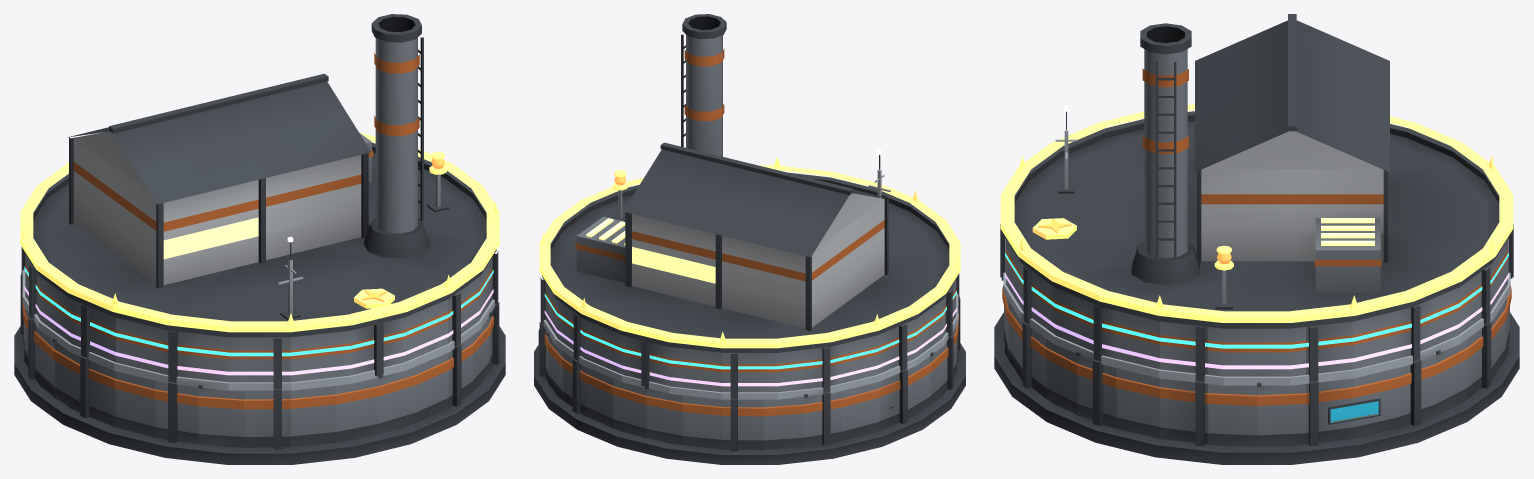
The model's file is refinery.glb.
3 views of the same model, side by side, from view 1: azimuth 30°, elevation 25°; view 2: azimuth 150°, elevation 25°; view 3: azimuth 270°, elevation 25° (orthographic). The views are drawn at different scales.
Parts seen in each view (by area): view 1: Roof, Base, Wall_21, Wall_20, Wall_22, Wall_19, Wall_23, Wall_18, Wall_24, Wall_17, Upper_21, Upper_23 (+34 smaller); view 2: Roof, Base, Wall_10, Wall_11, Wall_09, Wall_12, Wall_08, Wall_13, Wall_07, Wall_14, Upper_10, Upper_08 (+27 smaller); view 3: Roof, Base, Wall_00, Wall_31, Wall_30, Wall_29, Wall_01, Wall_28, Wall_03, Wall_02, Upper_01, Upper_30 (+35 smaller).
Boxes of the visible parts, x1=… form: Roof: x1=23, y1=14, x2=496, y2=337; Base: x1=14, y1=326, x2=505, y2=464; Wall_21: x1=244, y1=389, x2=290, y2=449; Wall_20: x1=198, y1=384, x2=244, y2=447; Wall_22: x1=291, y1=385, x2=336, y2=447; Wall_19: x1=154, y1=381, x2=198, y2=444; Wall_23: x1=336, y1=377, x2=378, y2=442; Wall_18: x1=115, y1=371, x2=155, y2=437; Wall_24: x1=378, y1=366, x2=416, y2=434; Wall_17: x1=80, y1=356, x2=115, y2=427; Upper_21: x1=244, y1=337, x2=290, y2=388; Upper_23: x1=335, y1=324, x2=380, y2=377; Roof: x1=542, y1=14, x2=957, y2=352; Base: x1=534, y1=343, x2=965, y2=464; Wall_10: x1=722, y1=398, x2=763, y2=451; Wall_11: x1=763, y1=397, x2=804, y2=449; Wall_09: x1=682, y1=395, x2=722, y2=449; Wall_12: x1=804, y1=391, x2=842, y2=446; Wall_08: x1=645, y1=386, x2=682, y2=445; Wall_13: x1=842, y1=382, x2=877, y2=440; Wall_07: x1=612, y1=378, x2=645, y2=438; Wall_14: x1=876, y1=369, x2=907, y2=431; Upper_10: x1=723, y1=353, x2=763, y2=398; Upper_08: x1=644, y1=341, x2=683, y2=387; Roof: x1=1004, y1=14, x2=1509, y2=328; Base: x1=994, y1=312, x2=1519, y2=464; Wall_00: x1=1257, y1=382, x2=1306, y2=446; Wall_31: x1=1207, y1=384, x2=1256, y2=446; Wall_30: x1=1159, y1=378, x2=1207, y2=446; Wall_29: x1=1115, y1=368, x2=1160, y2=438; Wall_01: x1=1306, y1=378, x2=1354, y2=446; Wall_28: x1=1076, y1=351, x2=1116, y2=428; Wall_03: x1=1397, y1=354, x2=1436, y2=428; Wall_02: x1=1353, y1=368, x2=1398, y2=438; Upper_01: x1=1306, y1=321, x2=1353, y2=381; Upper_30: x1=1160, y1=321, x2=1207, y2=381.
Size of the model in its own units: 9.72 by 7.52 by 9.72.
